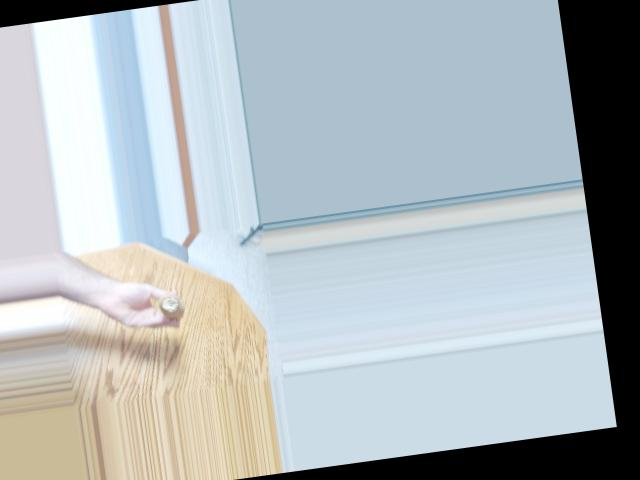sweet_potato: (158, 289, 189, 315)
